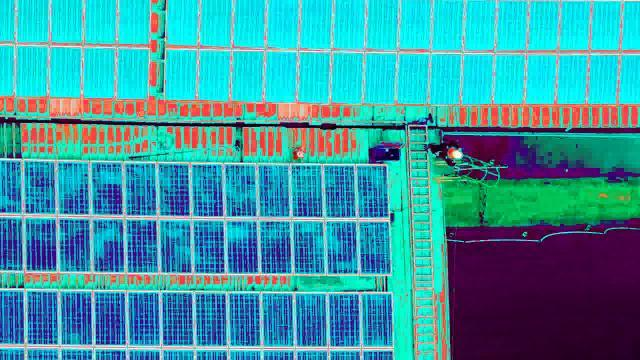dirty: (15, 45, 49, 95), (47, 46, 81, 96), (82, 48, 116, 98), (116, 47, 150, 97), (163, 49, 197, 99), (197, 49, 231, 99), (230, 50, 264, 100), (264, 51, 298, 101), (297, 51, 331, 101), (328, 52, 362, 102), (364, 53, 398, 103), (395, 52, 429, 102), (429, 52, 463, 102), (459, 53, 493, 103), (490, 52, 524, 102), (525, 53, 559, 103), (554, 53, 588, 103), (585, 55, 619, 105), (587, 1, 621, 50), (556, 1, 590, 50), (525, 1, 559, 50), (496, 1, 530, 50), (464, 1, 498, 50), (430, 1, 464, 50), (397, 1, 431, 50), (366, 1, 400, 50), (331, 1, 365, 50), (298, 1, 332, 50), (266, 1, 300, 50), (229, 1, 263, 50), (196, 1, 230, 50), (164, 1, 198, 50), (117, 1, 149, 44), (87, 1, 119, 44), (51, 1, 83, 44), (16, 1, 48, 44)
semi: (58, 161, 90, 216), (91, 160, 123, 215), (124, 162, 156, 217), (158, 163, 190, 218), (191, 163, 223, 218), (226, 163, 258, 218), (257, 164, 289, 219), (292, 163, 324, 218), (324, 163, 356, 218), (357, 161, 389, 216), (25, 217, 57, 272), (58, 215, 90, 270), (92, 217, 124, 272), (124, 216, 156, 271), (160, 220, 192, 275), (193, 219, 225, 274), (224, 219, 256, 274), (260, 219, 292, 274), (293, 217, 325, 272), (326, 219, 358, 274), (358, 220, 390, 275), (26, 289, 58, 344), (60, 289, 92, 344), (94, 290, 126, 345), (128, 289, 160, 344), (160, 289, 192, 344), (193, 289, 225, 344), (228, 292, 260, 347), (259, 292, 291, 347), (293, 290, 325, 345), (330, 291, 362, 346), (362, 291, 394, 346)
